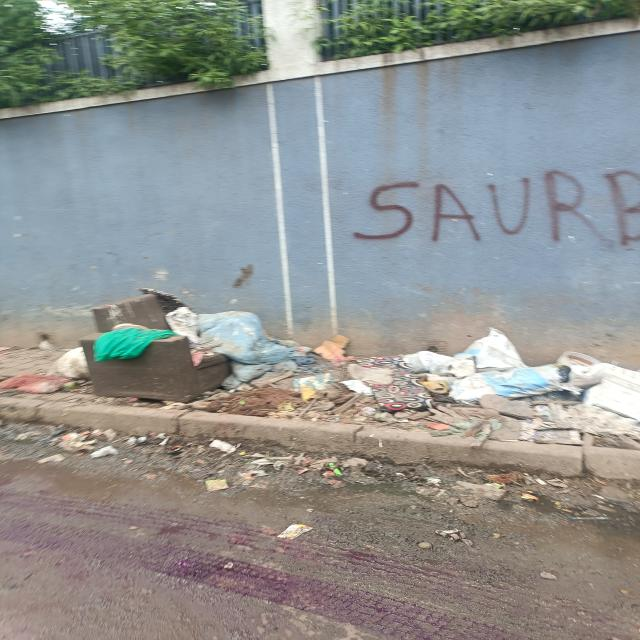garbage: (68, 299, 343, 422), (350, 341, 640, 433)
